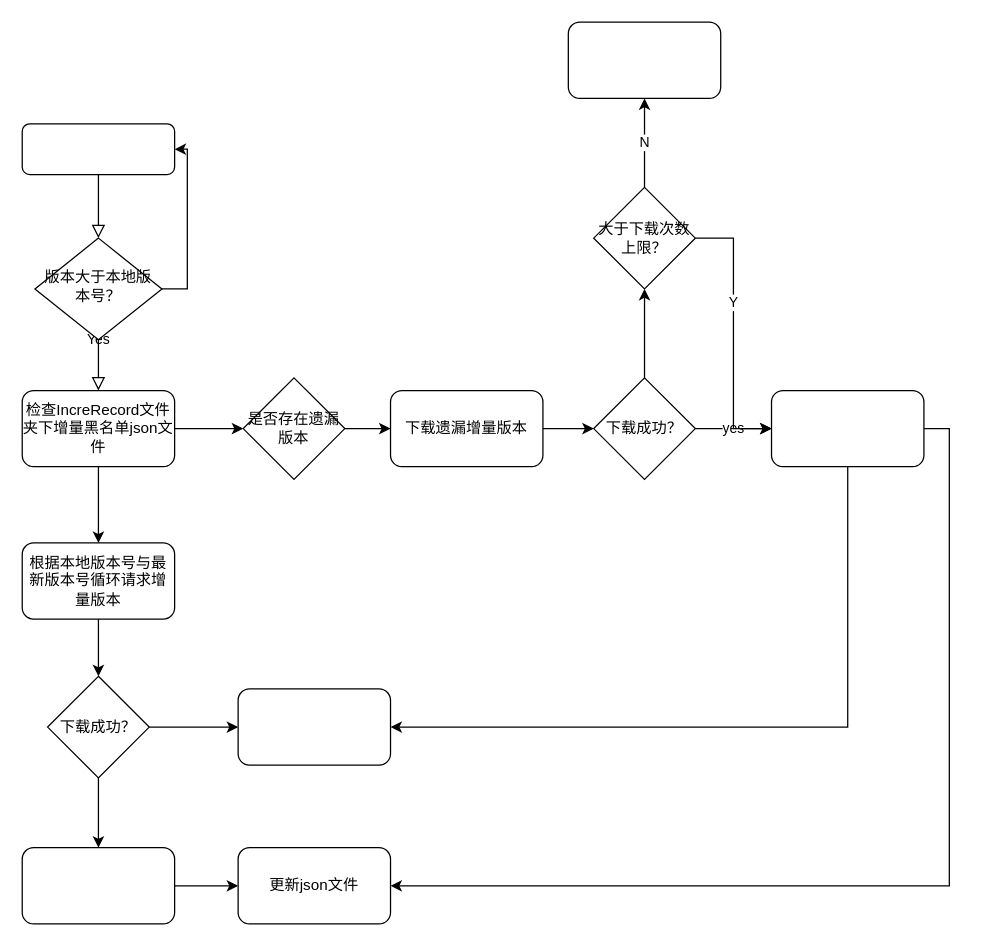
Image size: 982x946. Some labels were removed from this diagram. The shapes that lost their labels are listed below. From the top down, each one's centre as x and y in pixels, then its label:
(644,59): 失败记录数+1
(98,149): 下载最新参数发布时间表
(847,428): 删除记录信息
(314,726): 加载参数
(98,885): 获取json文件内容，追加遗漏版本
